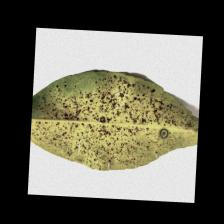canker: (35, 78, 181, 162)
